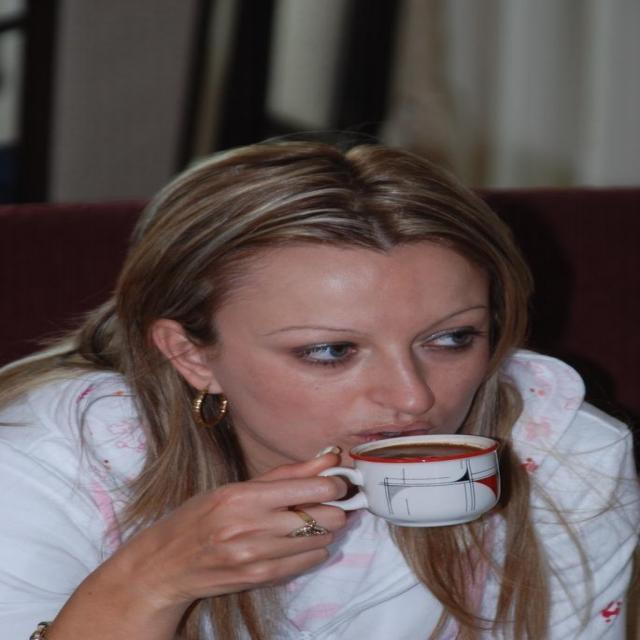cup-handle: (311, 432, 507, 530)
